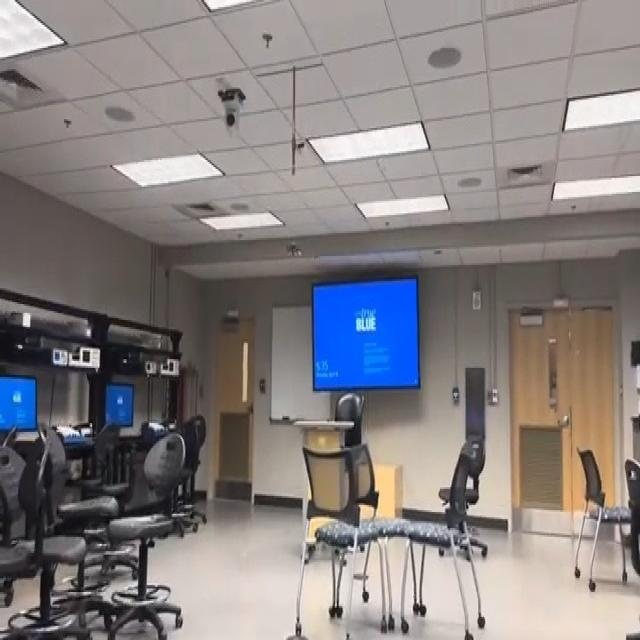drone: (280, 233, 305, 268)
